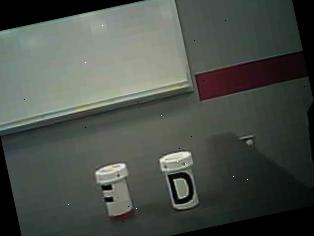Bottle D: (156, 145, 208, 219)
Bottle F: (88, 156, 140, 224)
